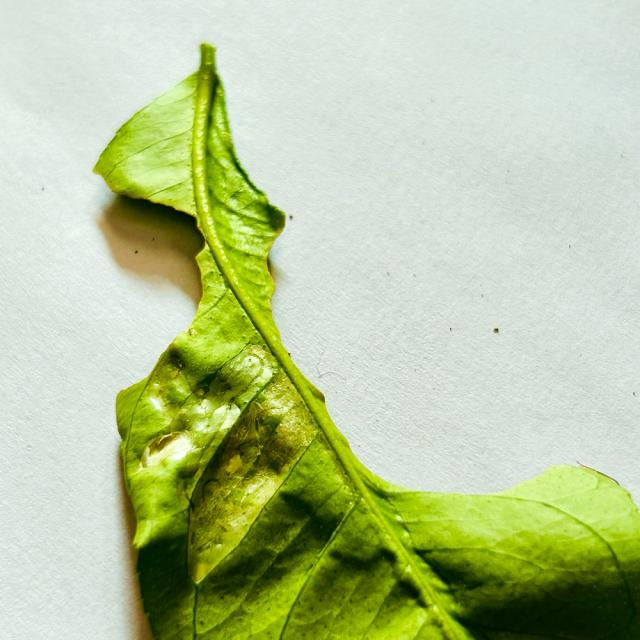Deficiency Leaf: (271, 204, 581, 491), (93, 195, 204, 379)
Lemon: (94, 46, 639, 639)
